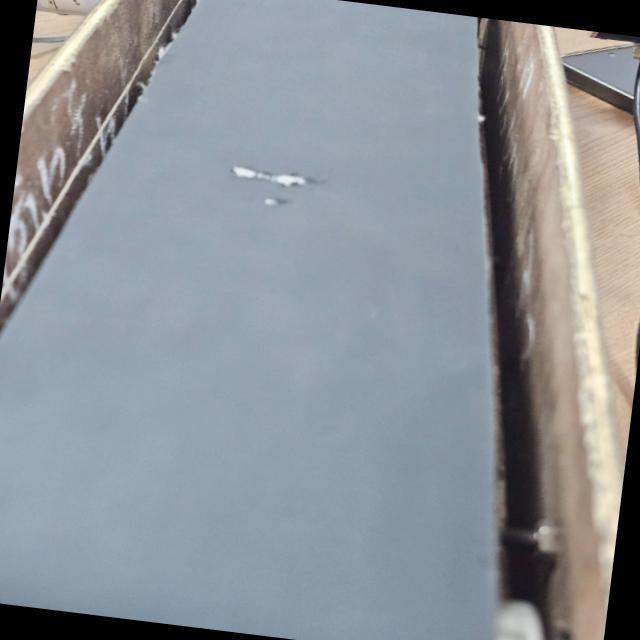eroded: (228, 161, 333, 213), (346, 205, 366, 226), (333, 197, 353, 215)
